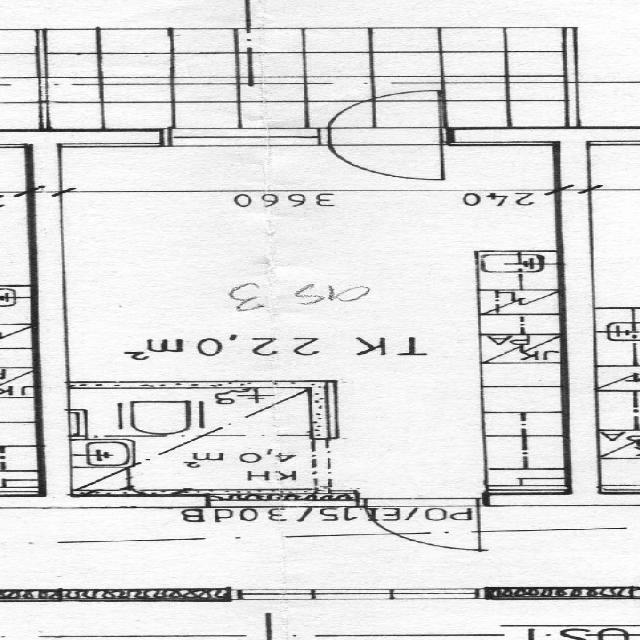door: (328, 128, 442, 188), (328, 87, 442, 147), (365, 489, 478, 546)
